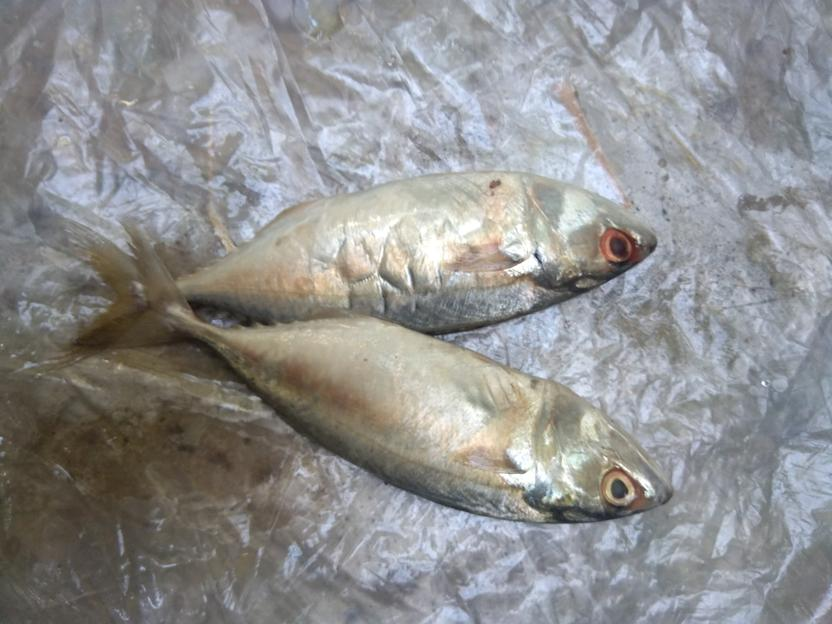Fish head: (534, 378, 675, 527), (521, 172, 658, 312)
Fish tail: (39, 226, 148, 374), (64, 224, 189, 345)
